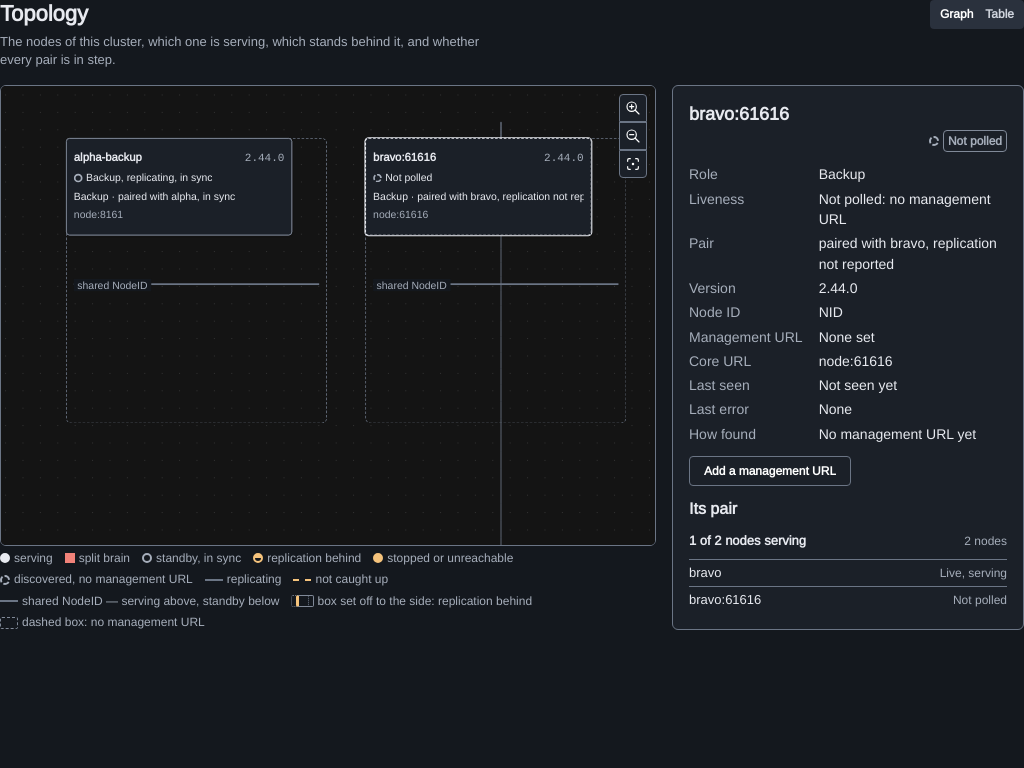
it: TopologyView › offers to add a management URL for a node that is not polled, and opens the flow
This screenshot has width=1024, height=768.
Expected: the text "Not polled: no management URL" is shown, left=819, top=189, right=1007, bottom=229
Expected: the text "Not seen yet" is shown, left=819, top=376, right=897, bottom=394
Click the button "Add a management URL". click: (770, 471)
box: left=689, top=456, right=851, bottom=486
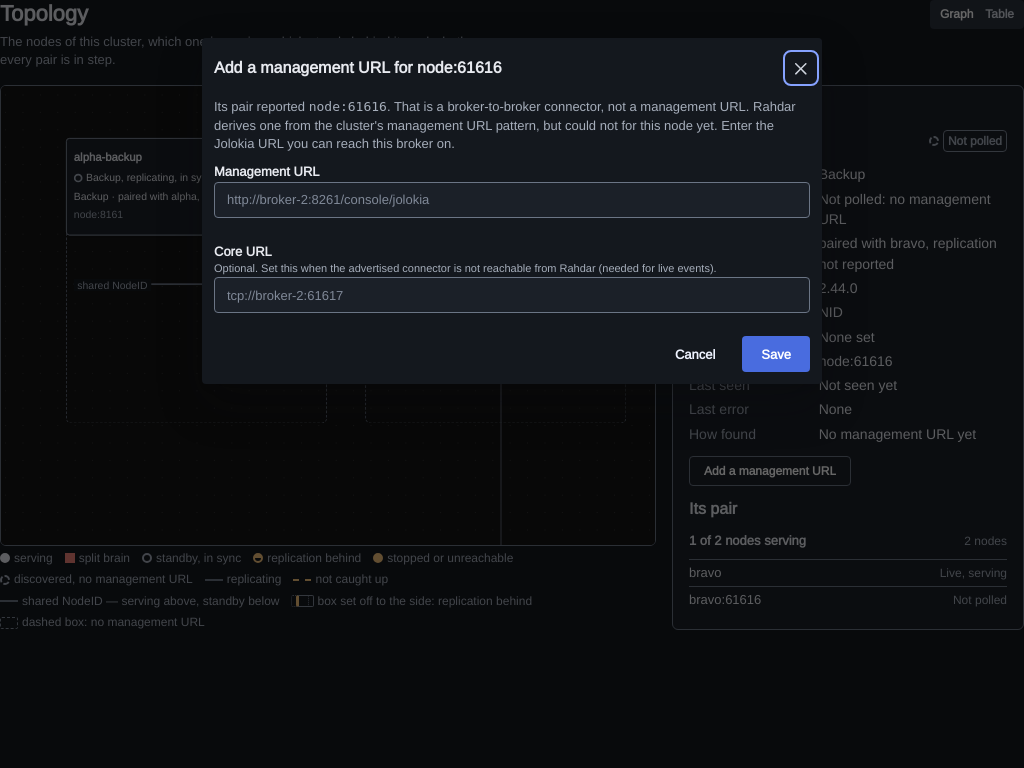
Result: the dialog "Add a management URL for node:61616" is shown at left=202, top=38, right=822, bottom=384
